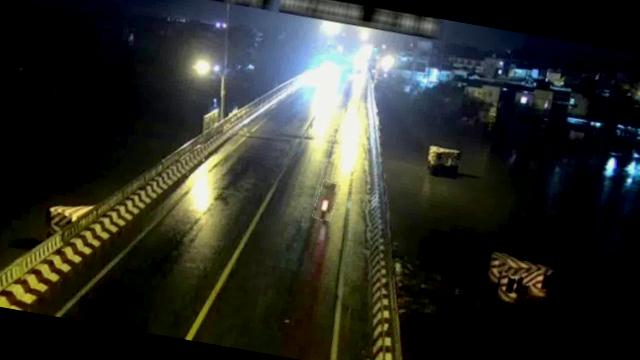Bike: (313, 180, 340, 222)
